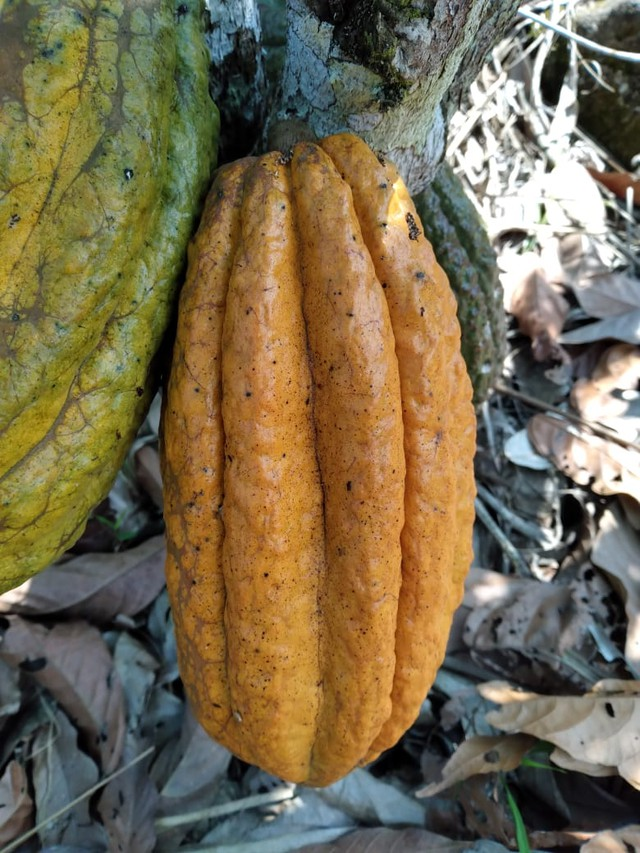Health: (153, 126, 487, 792)
